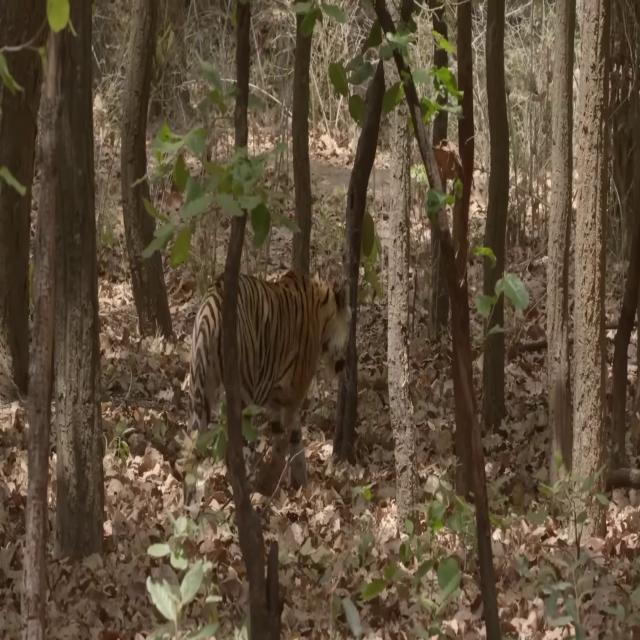tiger: (188, 271, 351, 487)
